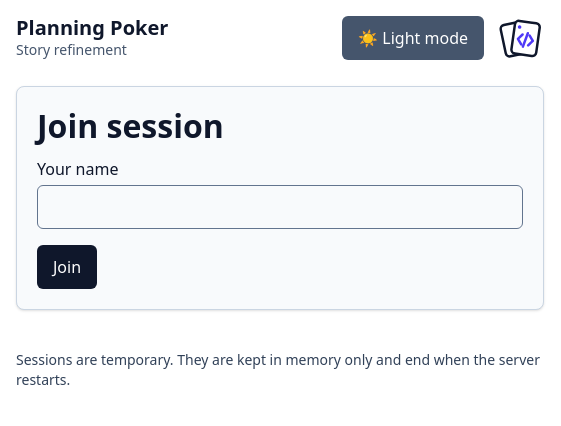
Test: GamePage › join prompt › shows INVALID_NAME from the server and stays usable
Type "Anna" into the field labelled "Your name" at (280, 207), box [37,185,523,229]
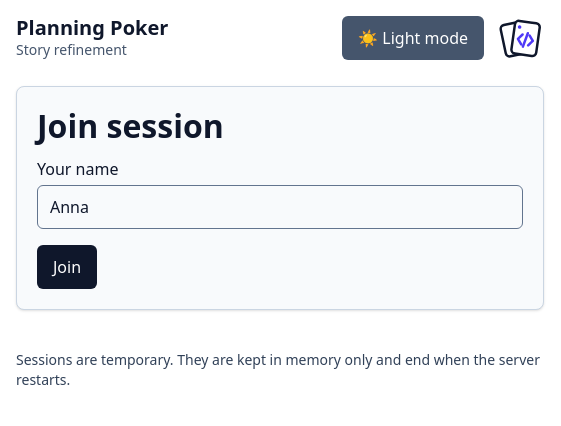
Click the button "Join" at (67, 267), box [37,245,97,289]
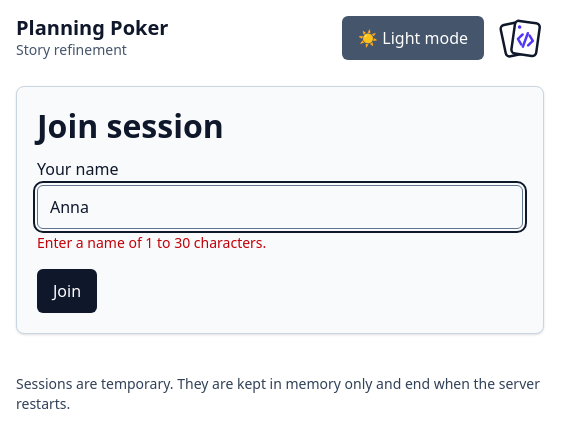
Expected: the button "Join" is enabled, [37,269,97,313]
Expected: the text "Enter a name of 1 to 30 characters." is shown, [37,233,266,252]
